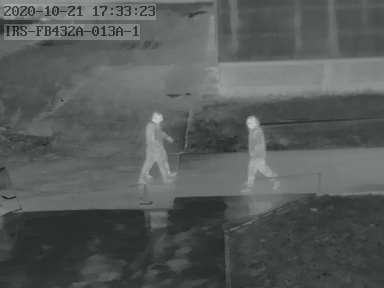person: (242, 112, 280, 192), (138, 110, 176, 187)
